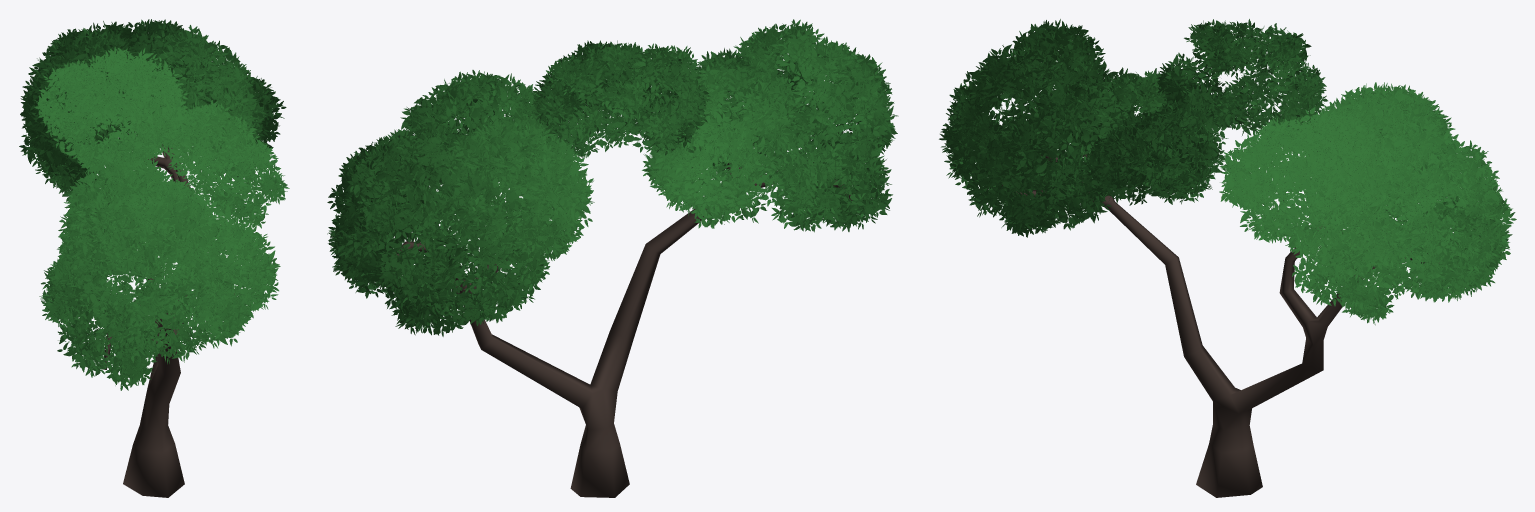
The model's file is Tree4.fbx.
3 views of the same model, side by side, from view 1: azimuth 30°, elevation 25°; view 2: azimuth 150°, elevation 25°; view 3: azimuth 270°, elevation 25° (orthographic). The views are drawn at different scales.
Parts seen in each view (by area): view 1: Plane; view 2: Plane; view 3: Plane.
Part boxes in pixels (x1,y1,x2,y2): Plane: [19, 19, 289, 497]; Plane: [327, 19, 898, 497]; Plane: [939, 19, 1516, 497].
Size of the model in its own units: 510 by 557 by 669.
Materials: 2 (1 with a texture image).
